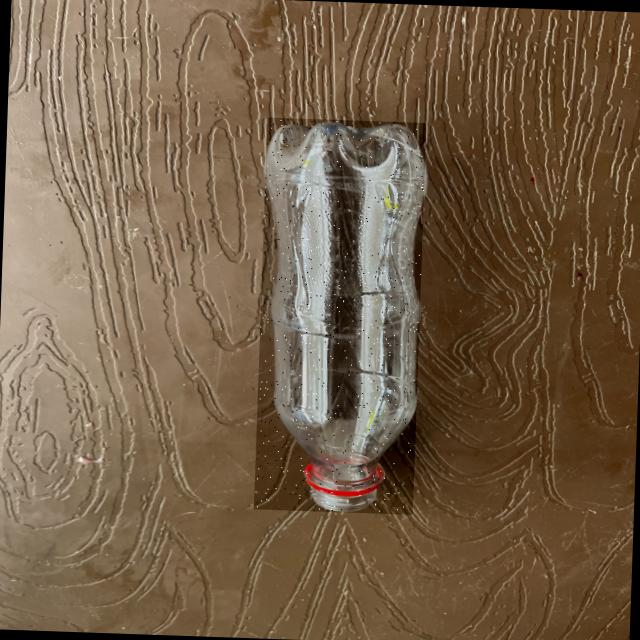PET_With_Cap: (253, 116, 426, 513)
